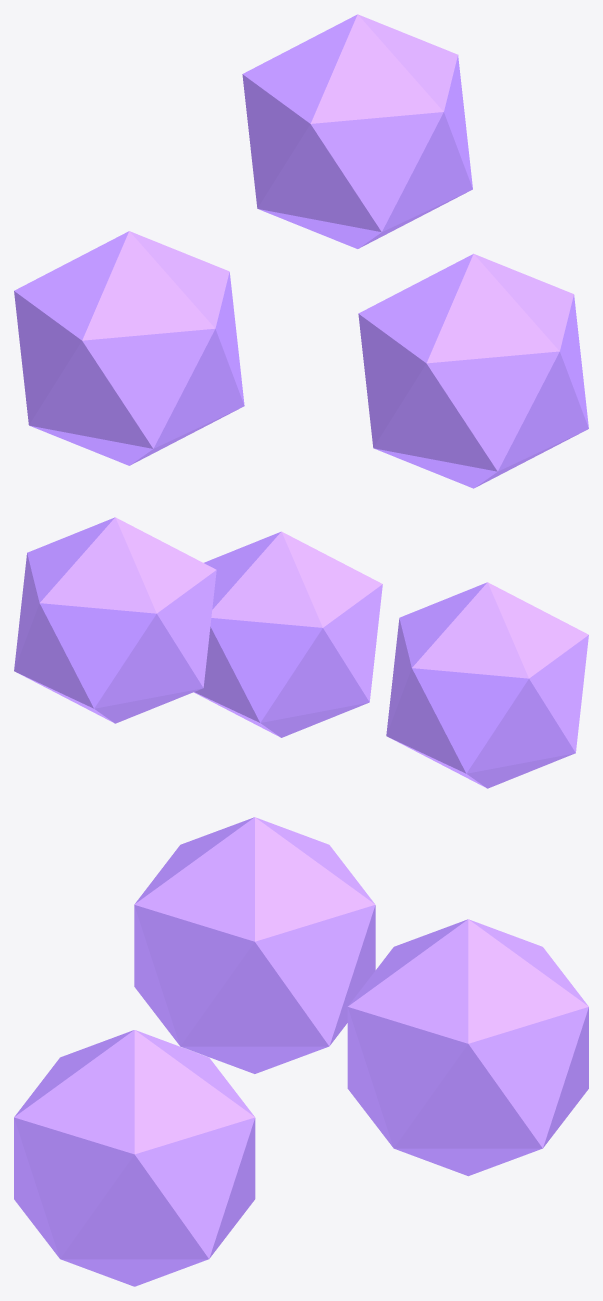
Rendered from flower_purple.glb.
3 views of the same model, one above another, from view 1: azimuth 30°, elevation 25°; view 2: azimuth 150°, elevation 25°; view 3: azimuth 270°, elevation 25° (orthographic). The views are drawn at different scales.
Parts seen in each view (by area): view 1: Icosphere.006, Icosphere.008, Icosphere.007; view 2: Icosphere.007, Icosphere.008, Icosphere.006; view 3: Icosphere.006, Icosphere.007, Icosphere.008.
Boxes of the visible parts, x1,y1,x2,y2 form: Icosphere.006: (358, 253, 588, 488); Icosphere.008: (14, 231, 244, 465); Icosphere.007: (242, 14, 472, 248); Icosphere.007: (14, 517, 216, 723); Icosphere.008: (386, 582, 588, 788); Icosphere.006: (194, 531, 382, 737); Icosphere.006: (14, 1030, 255, 1286); Icosphere.007: (347, 919, 588, 1176); Icosphere.008: (134, 817, 375, 1073).
Size of the model in its own units: 0.4223 by 0.2711 by 0.3648.
